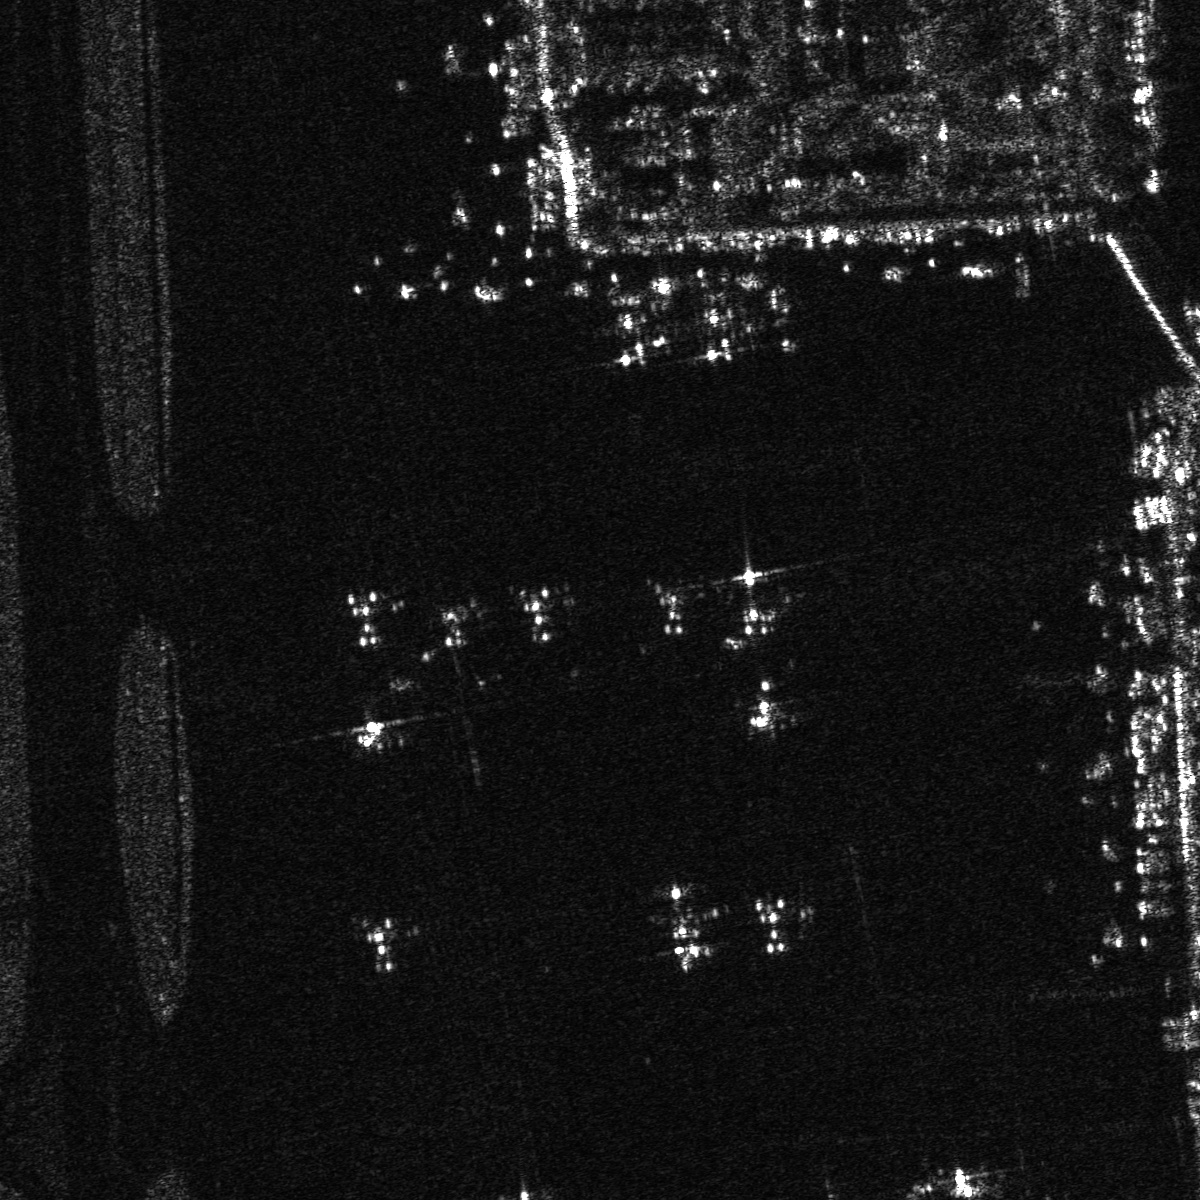A220: (749, 891, 823, 963)
ARJ21: (741, 274, 832, 356), (736, 670, 801, 738), (347, 919, 412, 980), (338, 703, 405, 757)
Boeing737: (596, 284, 673, 370)
Boeing787: (927, 1164, 997, 1199)
other: (632, 868, 738, 981), (716, 565, 805, 651), (678, 286, 743, 369), (332, 584, 411, 652), (510, 579, 577, 647), (426, 595, 496, 657), (648, 577, 704, 642)
